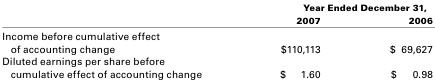table: (1, 1, 431, 79)
table column: (1, 1, 240, 79), (240, 1, 354, 79), (354, 1, 431, 79)
table column header: (1, 1, 431, 27)
table row: (1, 27, 431, 54), (1, 54, 431, 79), (1, 12, 431, 27), (1, 1, 431, 12)
table spanning cell: (240, 1, 431, 12)
